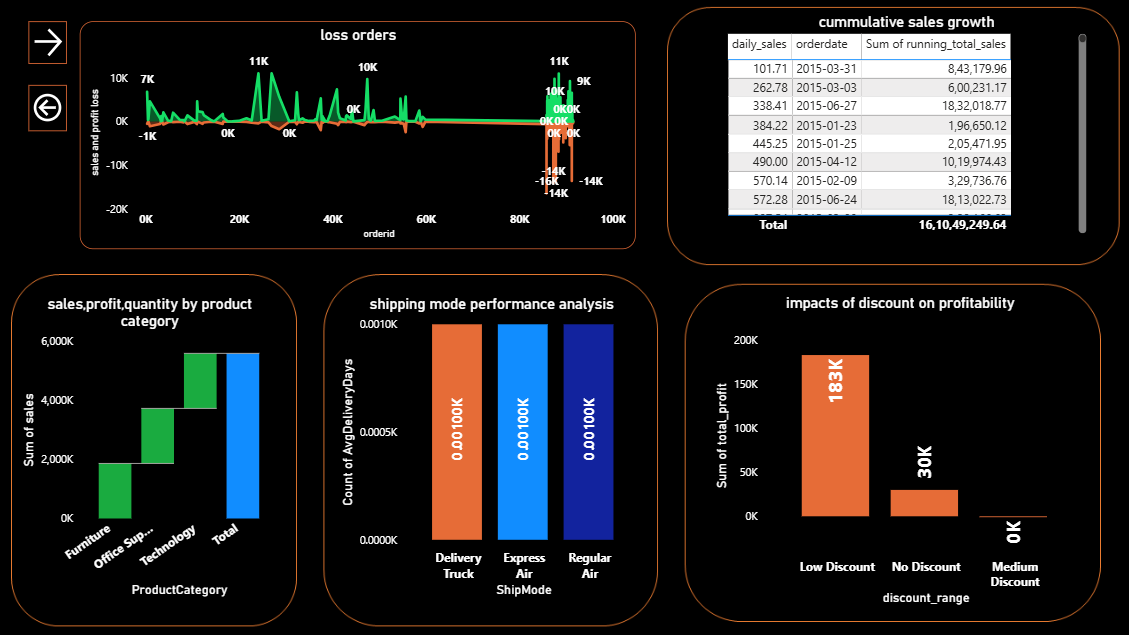

What the dashboard file says about the page in this screenshot:
{"tool":"powerbi","page":{"name":"bussiness analysis","canvas":[1280,720],"ordinal":2},"visuals":[{"type":"tableEx","title":"cummulative sales growth","fields":{"Values":["running total sales.daily_sales","running total sales.orderdate","Sum(running total sales.running_total_sales)"]},"box":[818,14.4,415.5,253.9],"z":0},{"type":"columnChart","title":"impacts of discount on profitability","fields":{"Category":["discount impact.discount_range"],"Y":["Sum(discount impact.total_profit)"]},"box":[803.7,331.3,429.5,355.8],"z":1000},{"type":"columnChart","title":"shipping mode performance analysis","fields":{"Category":["shipping analysis.ShipMode"],"Y":["Count(shipping analysis.AvgDeliveryDays)"],"Series":["shipping analysis.TotalShippingCost"]},"box":[383.8,331.8,350.6,344.8],"z":2000},{"type":"waterfallChart","title":"sales,profit,quantity by product category","fields":{"Y":["Sum(scatterplot.sales)"],"Category":["Query1.ProductCategory"]},"box":[24.5,331.8,298.7,344.8],"z":3000},{"type":"areaChart","title":"loss orders","fields":{"Category":["loss orders.orderid"],"Y":["Sum(loss orders.profit)","Sum(loss orders.sales)"]},"box":[93.8,24.5,626.2,256.8],"z":4000},{"type":"actionButton","box":[36.1,24.5,43.3,47.6],"z":5000},{"type":"actionButton","box":[36.1,95.2,43.3,51.9],"z":6000}]}

Visuals, with their boxes in screenshot pixels (x1, y1, x2, y2), scaled from the page's 1280x720 canvas onto the 1129x635 screenshot:
"cummulative sales growth" tableEx: select_region(722, 13, 1088, 237)
"impacts of discount on profitability" columnChart: select_region(709, 292, 1088, 606)
"shipping mode performance analysis" columnChart: select_region(339, 293, 648, 597)
"sales,profit,quantity by product category" waterfallChart: select_region(22, 293, 285, 597)
"loss orders" areaChart: select_region(83, 22, 635, 248)
actionButton: select_region(32, 22, 70, 64)
actionButton: select_region(32, 84, 70, 130)
